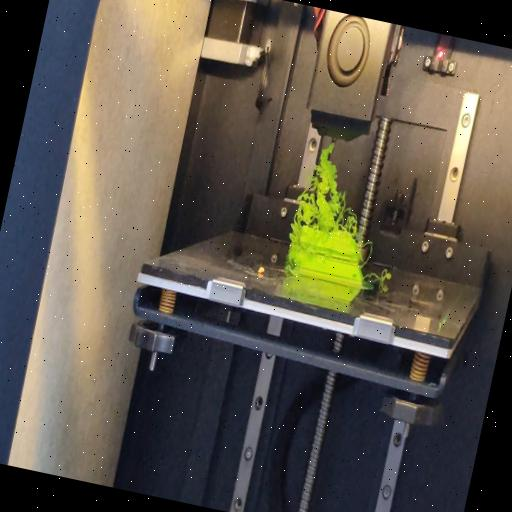spaghetti: (288, 137, 380, 241), (278, 226, 302, 276), (361, 266, 394, 290), (359, 239, 373, 267)
